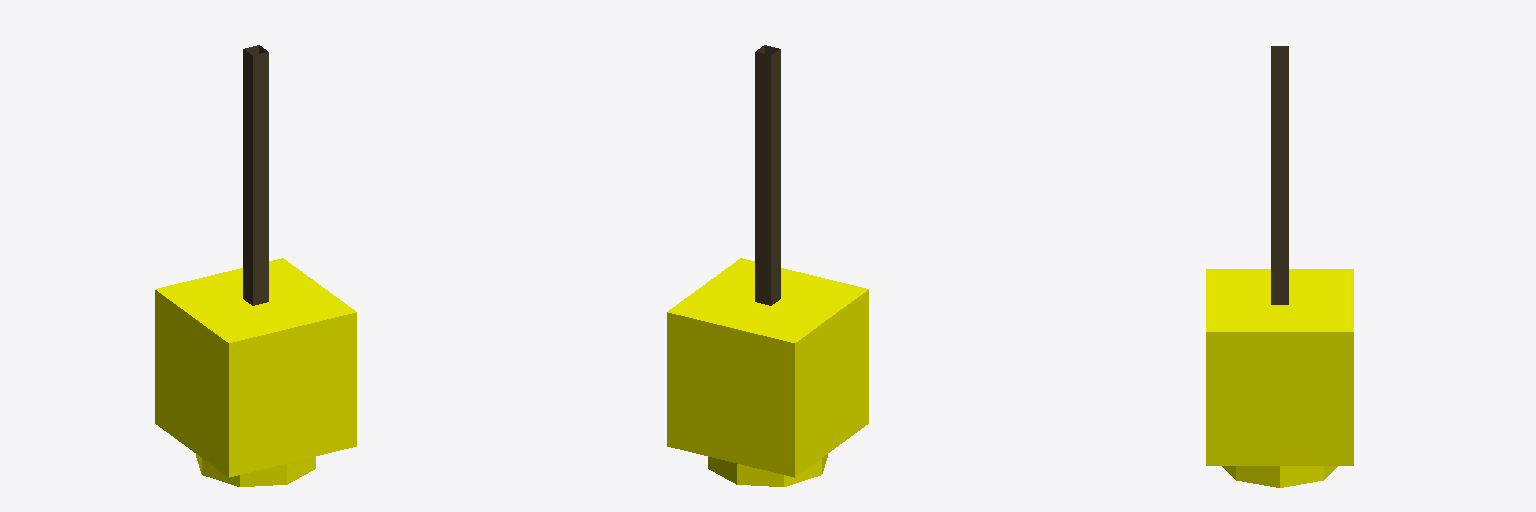
The picture shows the model from 3 angles: view 1: azimuth 30°, elevation 25°; view 2: azimuth 150°, elevation 25°; view 3: azimuth 270°, elevation 25°; orthographic projection.
Visible parts, largest first — view 1: Cube_Cube.001; view 2: Cube_Cube.001; view 3: Cube_Cube.001.
Part boxes in pixels (x1,y1,x2,y2): Cube_Cube.001: (155, 45, 356, 486); Cube_Cube.001: (667, 45, 868, 486); Cube_Cube.001: (1206, 46, 1353, 487).
Size of the model in its own units: 1 by 3.07 by 1.
2 materials, 2 textured.